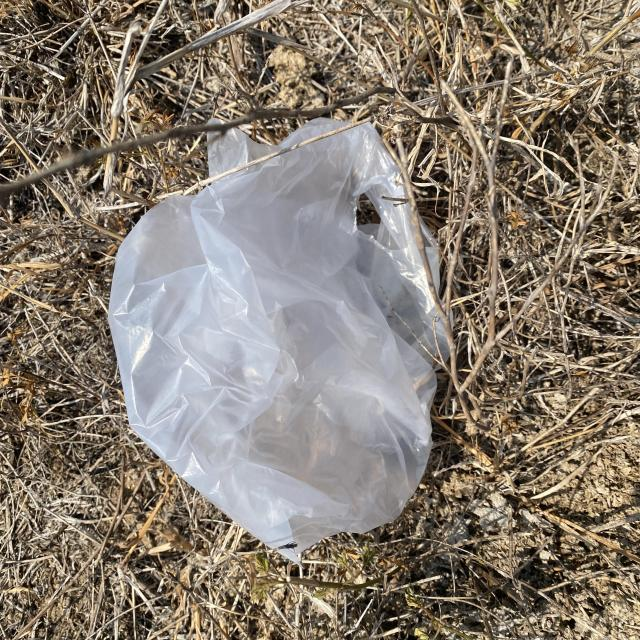Single-layer Plastic: (106, 118, 454, 563)
